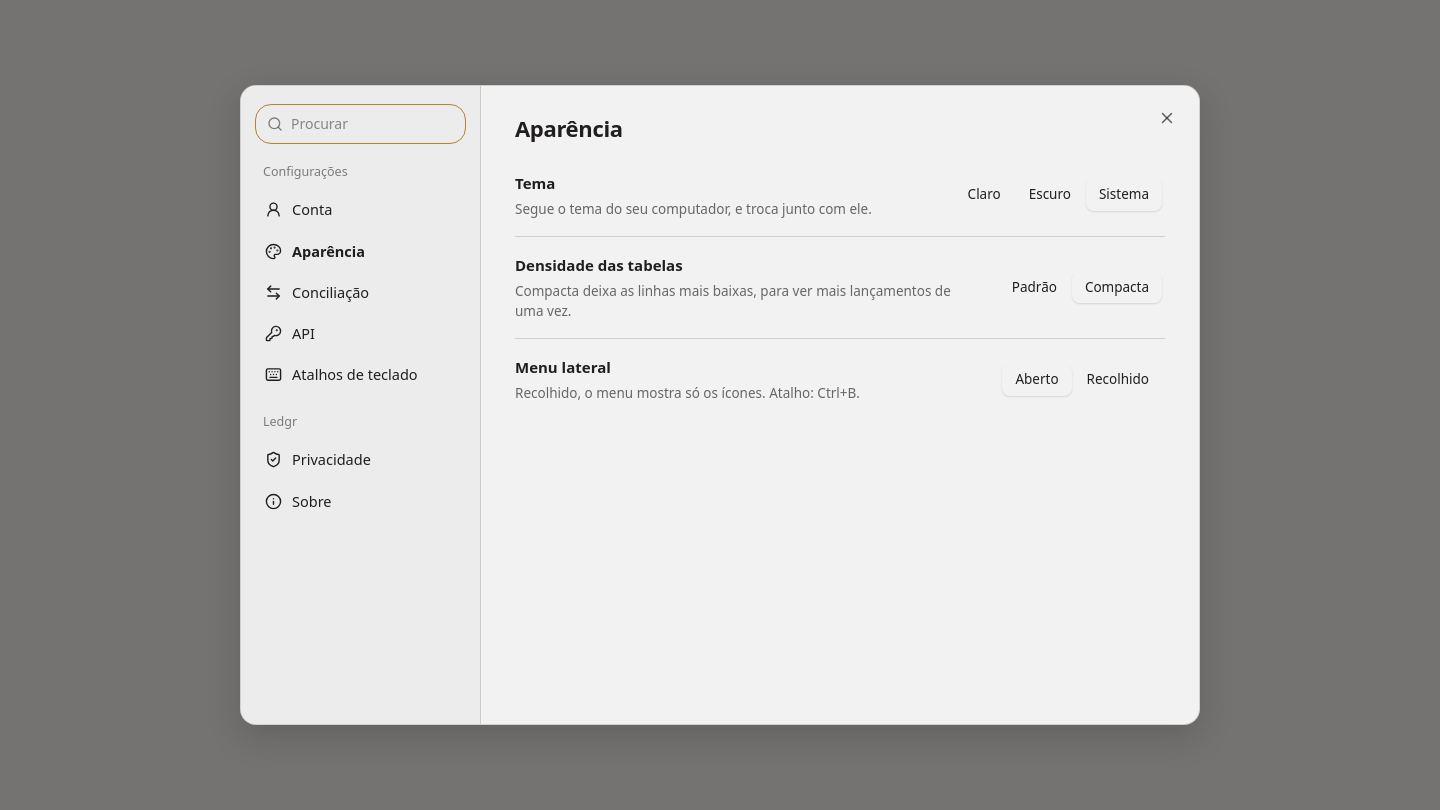
Scenario: Configuracoes › the date tolerance › discards a change that was not saved
Click the button "Conciliação": [360, 292] box [255, 273, 466, 312]
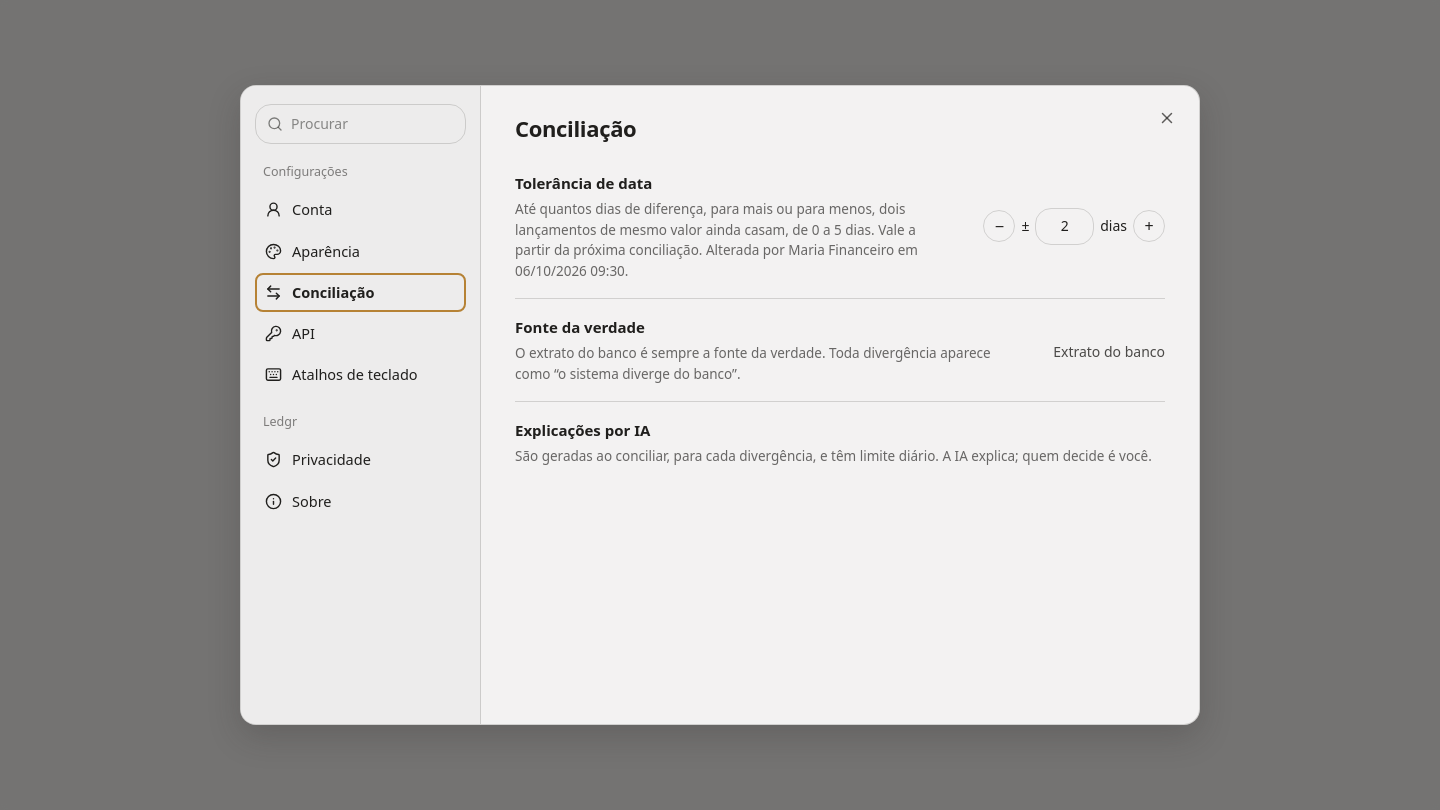
Click the button named "Um dia a menos": [999, 226] box [983, 210, 1015, 242]
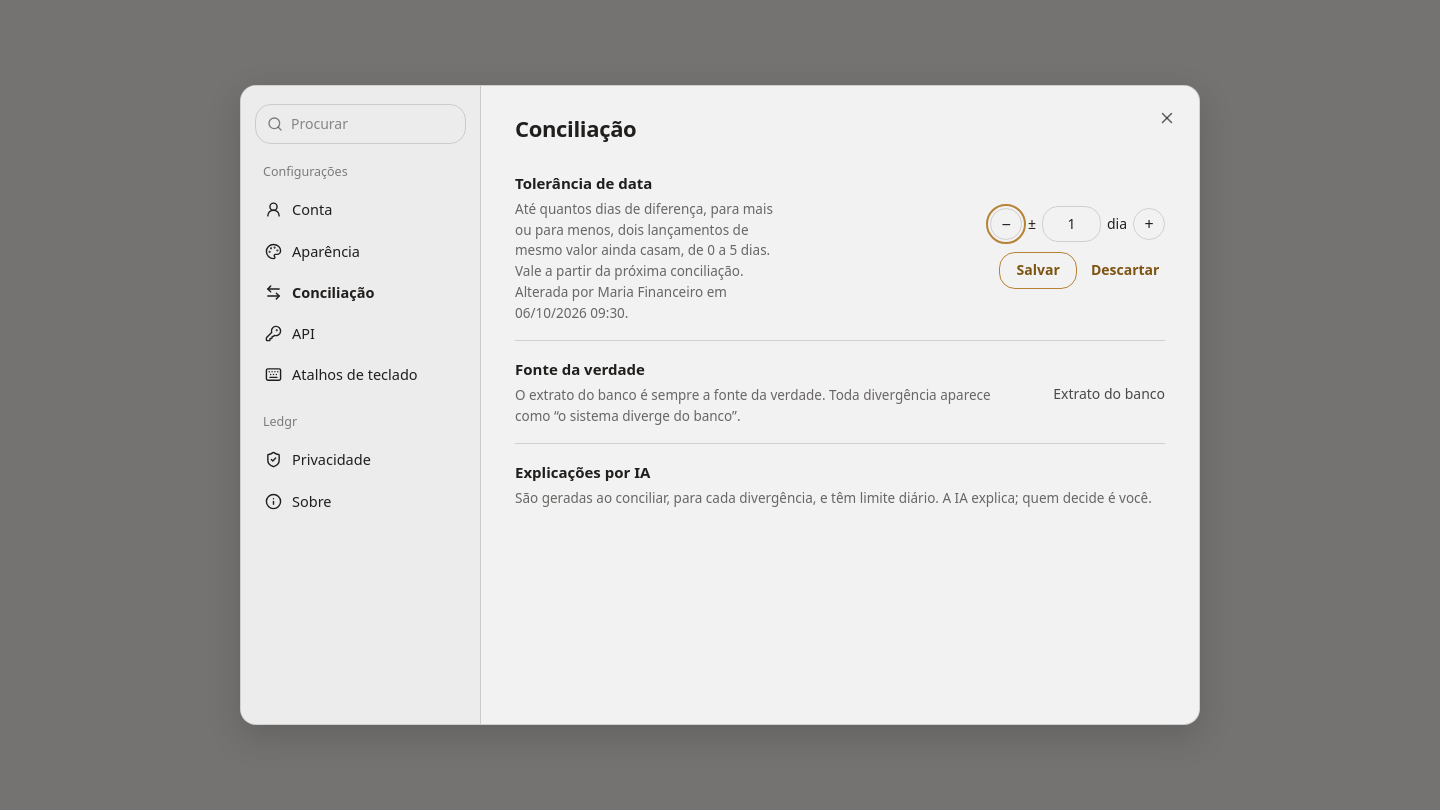
Click the button "Descartar": [1125, 271] box [1085, 252, 1165, 289]
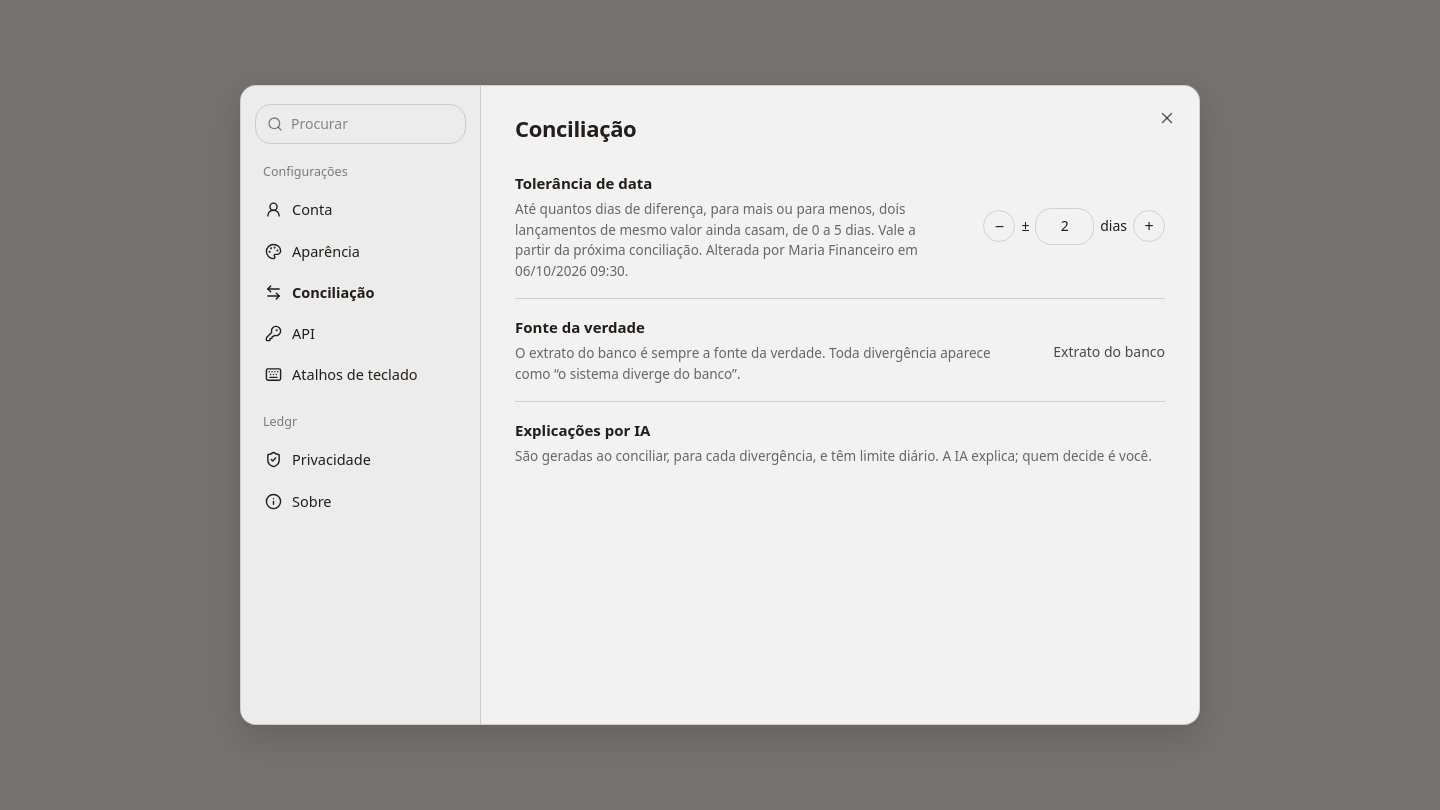
Expected: the number field named "Tolerância de data, em dias para mais ou para menos" holds "2", [1035, 208, 1094, 245]
